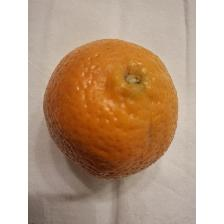Mandarine: (40, 36, 184, 182)
